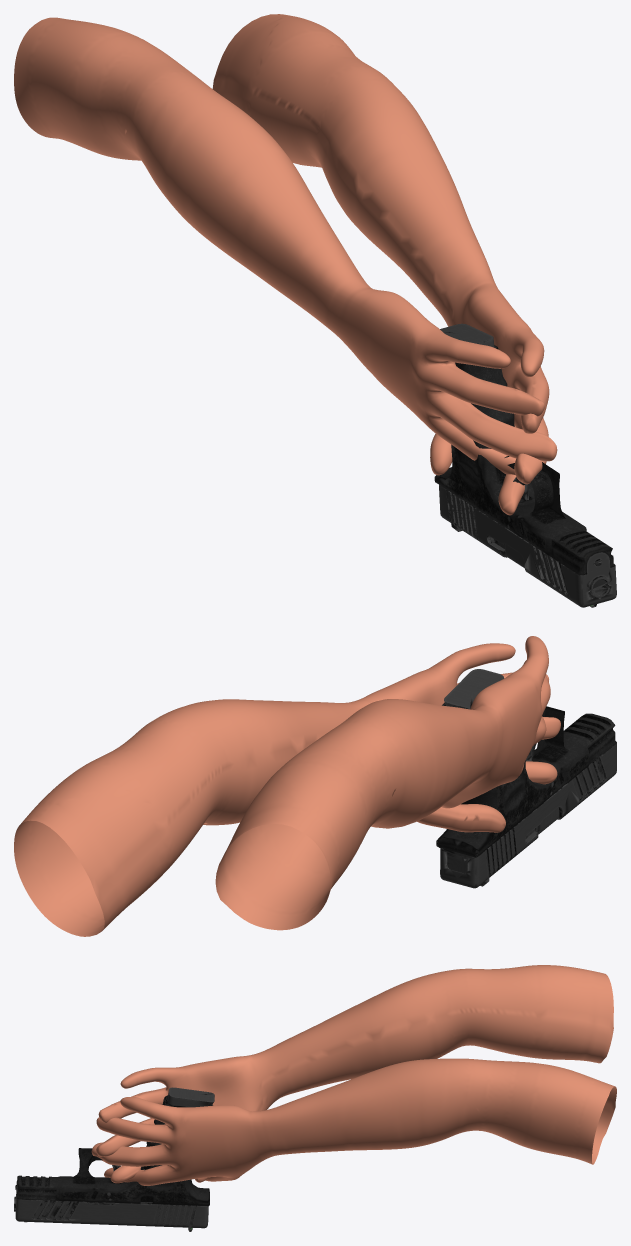
File: gunHand.gltf
The picture shows the model from 3 angles, top to bottom: view 1: azimuth 30°, elevation 25°; view 2: azimuth 150°, elevation 25°; view 3: azimuth 270°, elevation 25°; orthographic projection. The views are drawn at different scales.
Parts seen in each view (by area): view 1: Object_2.108; view 2: Object_2.108; view 3: Object_2.108.
Part boxes in pixels (x1=…): Object_2.108: x1=14, y1=14, x2=616, y2=607; Object_2.108: x1=14, y1=636, x2=616, y2=936; Object_2.108: x1=14, y1=965, x2=616, y2=1231.
Bounding box in the file's own units: 0.3008 × 0.306 × 0.7441.
Materials: 2 (2 with a texture image).
